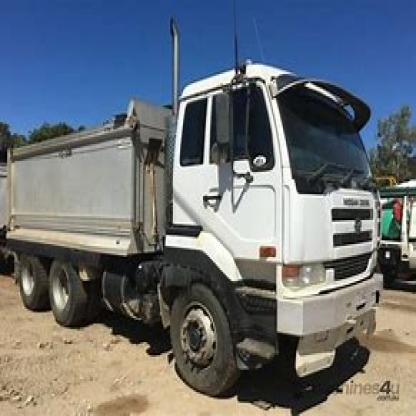dump_truck: (6, 50, 393, 390)
